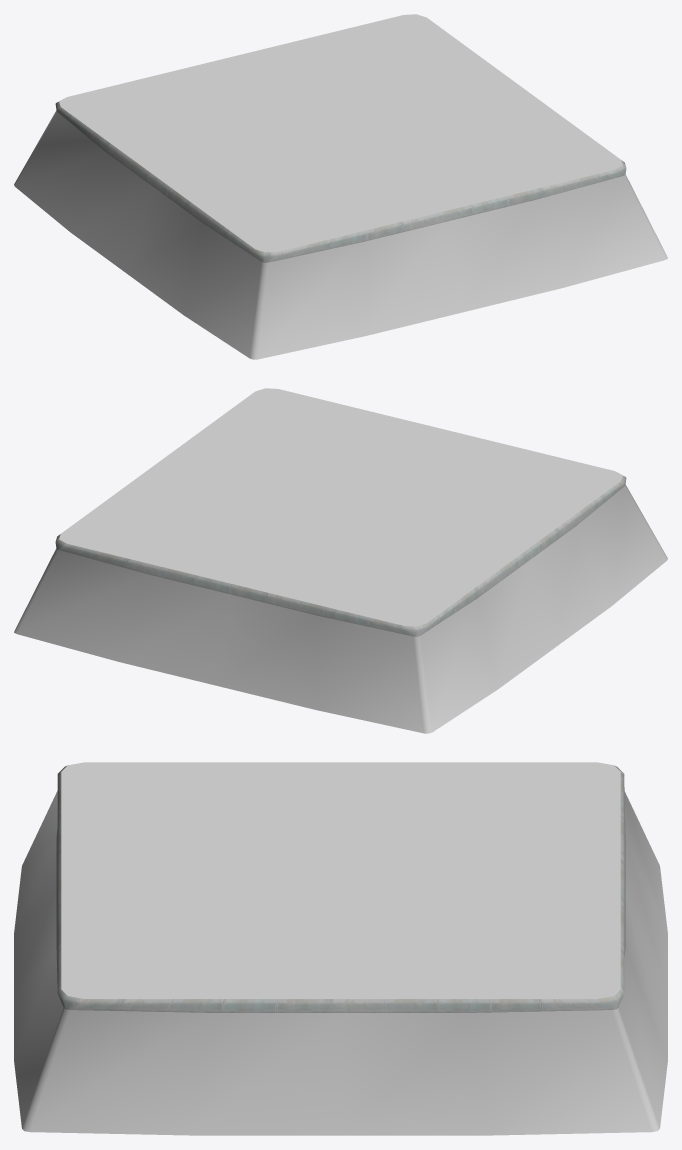
File: SM_TowerE_Floor.fbx
The picture shows the model from 3 angles, top to bottom: view 1: azimuth 30°, elevation 25°; view 2: azimuth 150°, elevation 25°; view 3: azimuth 270°, elevation 25°; orthographic projection. The views are drawn at different scales.
Parts seen in each view (by area): view 1: SM_TowerE_Floor_LOD0; view 2: SM_TowerE_Floor_LOD0; view 3: SM_TowerE_Floor_LOD0.
Part boxes in pixels (x1=…): SM_TowerE_Floor_LOD0: x1=14, y1=14, x2=667, y2=359; SM_TowerE_Floor_LOD0: x1=14, y1=388, x2=667, y2=733; SM_TowerE_Floor_LOD0: x1=14, y1=762, x2=667, y2=1135.
Size of what is drawn, in the model's own units: 14.19 by 2.8 by 14.19.
